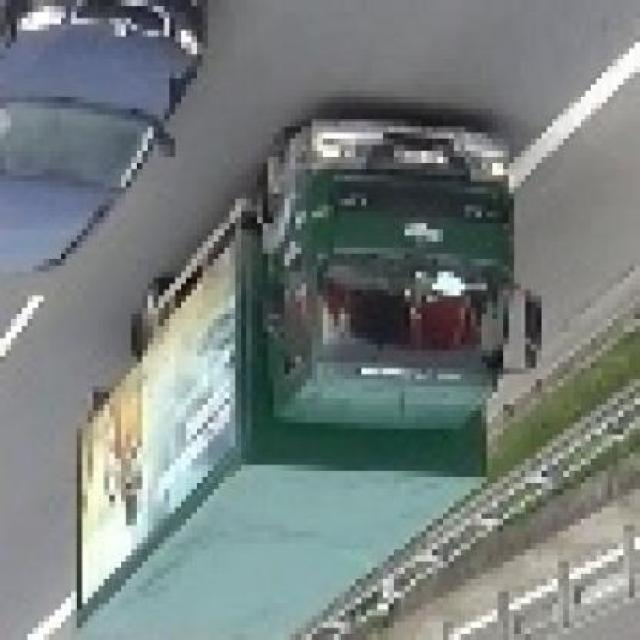truck: (73, 121, 537, 640)
